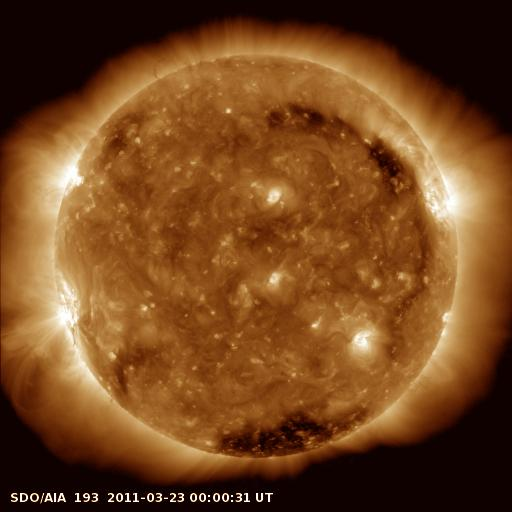coronal_hole: (203, 407, 370, 464), (364, 133, 412, 186)
